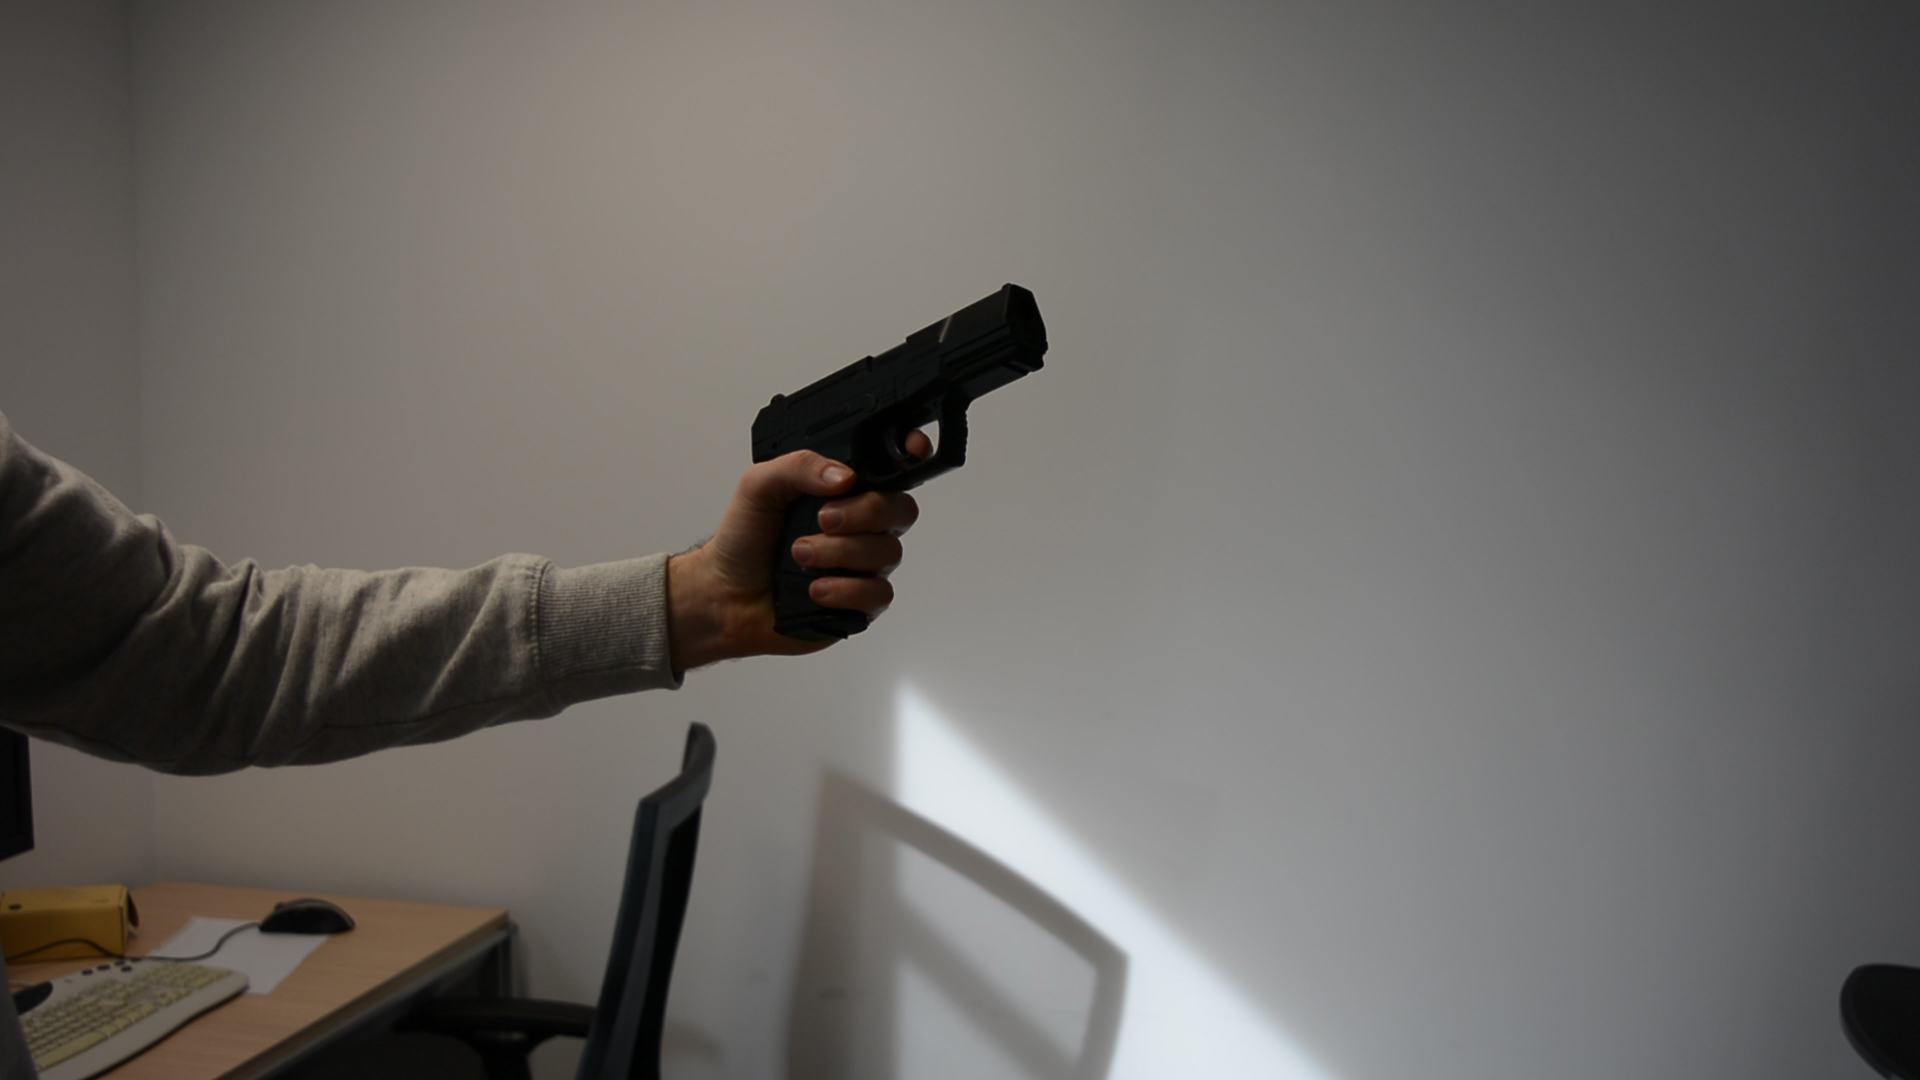pistol: (748, 280, 1050, 646)
